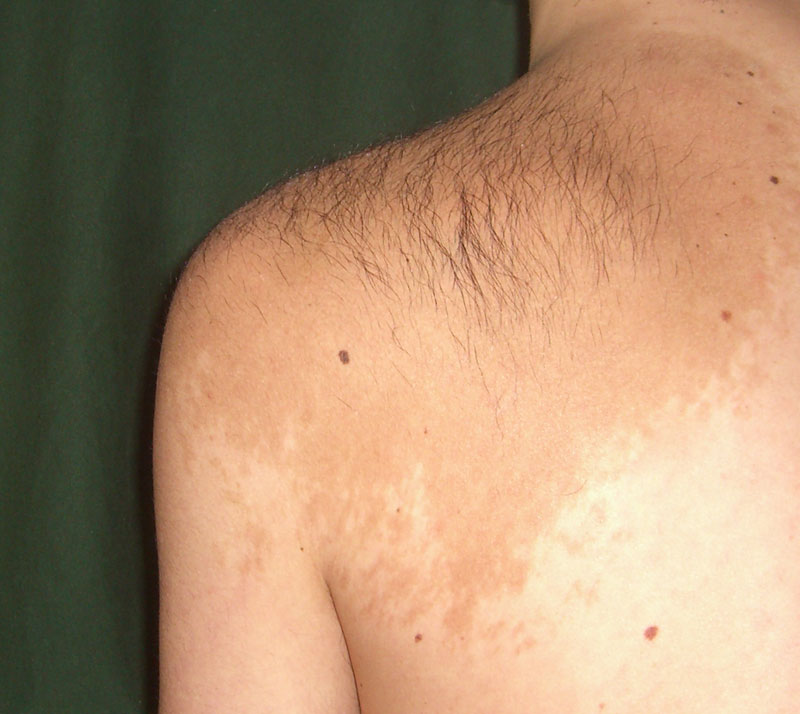mole: (761, 167, 791, 193), (712, 308, 742, 328), (331, 346, 358, 368), (408, 628, 430, 652), (640, 622, 663, 644)
